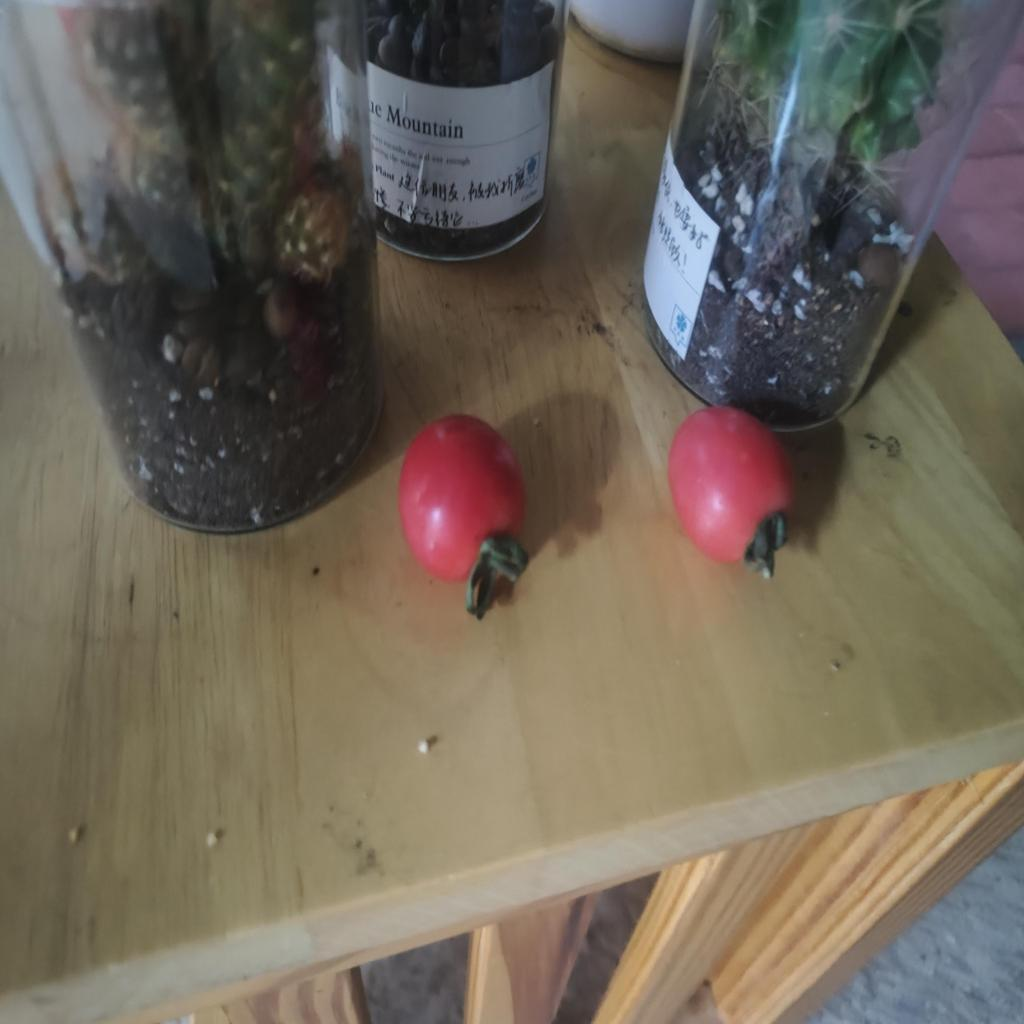tomato: (396, 417, 547, 594), (665, 403, 799, 569)
